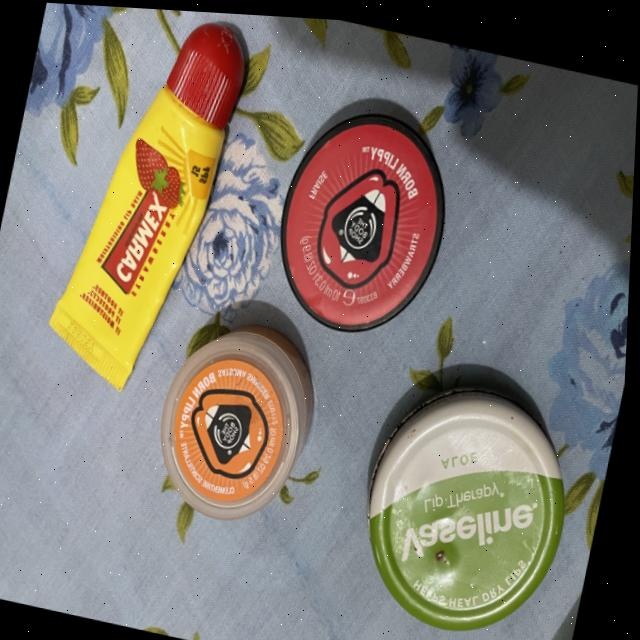Tint: (4, 1, 291, 447)
gel: (309, 317, 621, 640)
lip shade: (220, 12, 502, 365)
